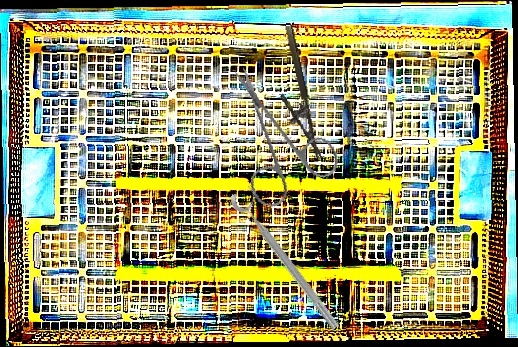Fixation Ring: (227, 182, 351, 334)
Iris Scissors: (200, 65, 357, 222)
Needle Holder: (267, 24, 322, 164)
